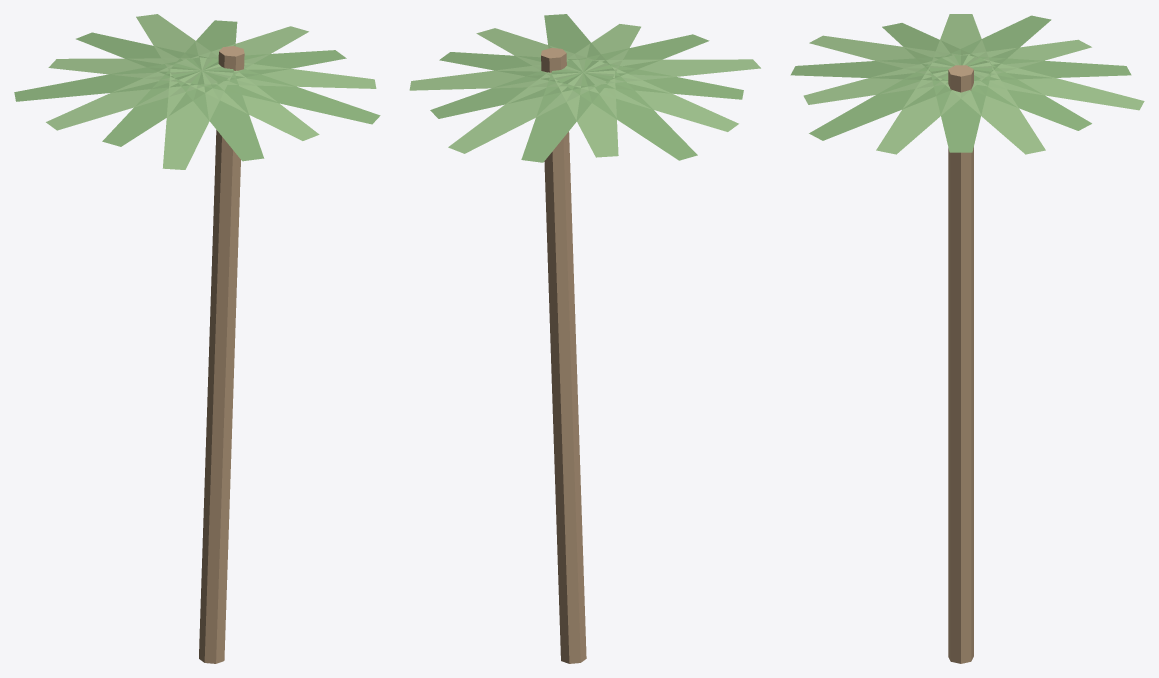
File: veg_tree_fan_palm_02.glb
The picture shows the model from 3 angles, left to right: view 1: azimuth 30°, elevation 25°; view 2: azimuth 150°, elevation 25°; view 3: azimuth 270°, elevation 25°; orthographic projection.
Parts seen in each view (by area): view 1: trunk, leaf_05, leaf_04, leaf_02, leaf_08, leaf_07, leaf_06, leaf_03, leaf_01, leaf_11, leaf_09, leaf_10 (+3 smaller); view 2: trunk, leaf_08, leaf_11, leaf_10, leaf_07, leaf_09, leaf_05, leaf_13, leaf_12, leaf_06, leaf_04, leaf_02 (+3 smaller); view 3: trunk, leaf_02, leaf_13, leaf_01, leaf_11, leaf_00, leaf_12, leaf_05, leaf_04, leaf_10, leaf_03, leaf_08 (+3 smaller).
Part boxes in pixels (x1,y1,x2,y2): trunk: (199,46,244,663); leaf_05: (162,68,233,169); leaf_04: (172,68,264,161); leaf_02: (191,58,380,124); leaf_08: (14,57,204,101); leaf_07: (46,59,217,130); leaf_06: (102,63,227,146); leaf_03: (179,64,319,140); leaf_01: (199,57,376,88); leaf_11: (136,14,223,74); leaf_09: (48,58,212,83); leaf_10: (76,32,218,79); trunk: (541,48,586,663); leaf_08: (557,65,697,160); leaf_11: (448,66,606,153); leaf_10: (521,69,613,162); leaf_07: (568,61,738,131); leaf_09: (552,70,618,157); leaf_05: (572,59,760,84); leaf_13: (409,59,585,90); leaf_12: (430,60,594,118); leaf_06: (581,59,743,99); leaf_04: (567,34,709,81); leaf_02: (544,14,614,74); trunk: (948,65,973,663); leaf_02: (809,57,980,140); leaf_13: (933,62,1045,154); leaf_01: (876,62,988,154); leaf_11: (963,55,1144,110); leaf_00: (929,68,992,152); leaf_12: (941,57,1091,130); leaf_05: (809,35,979,78); leaf_04: (790,55,967,80); leaf_10: (954,55,1131,80); leaf_03: (803,55,958,104); leaf_08: (933,15,1051,73).
Bounding box in the file's own units: 4.54 × 9.01 × 4.84.
